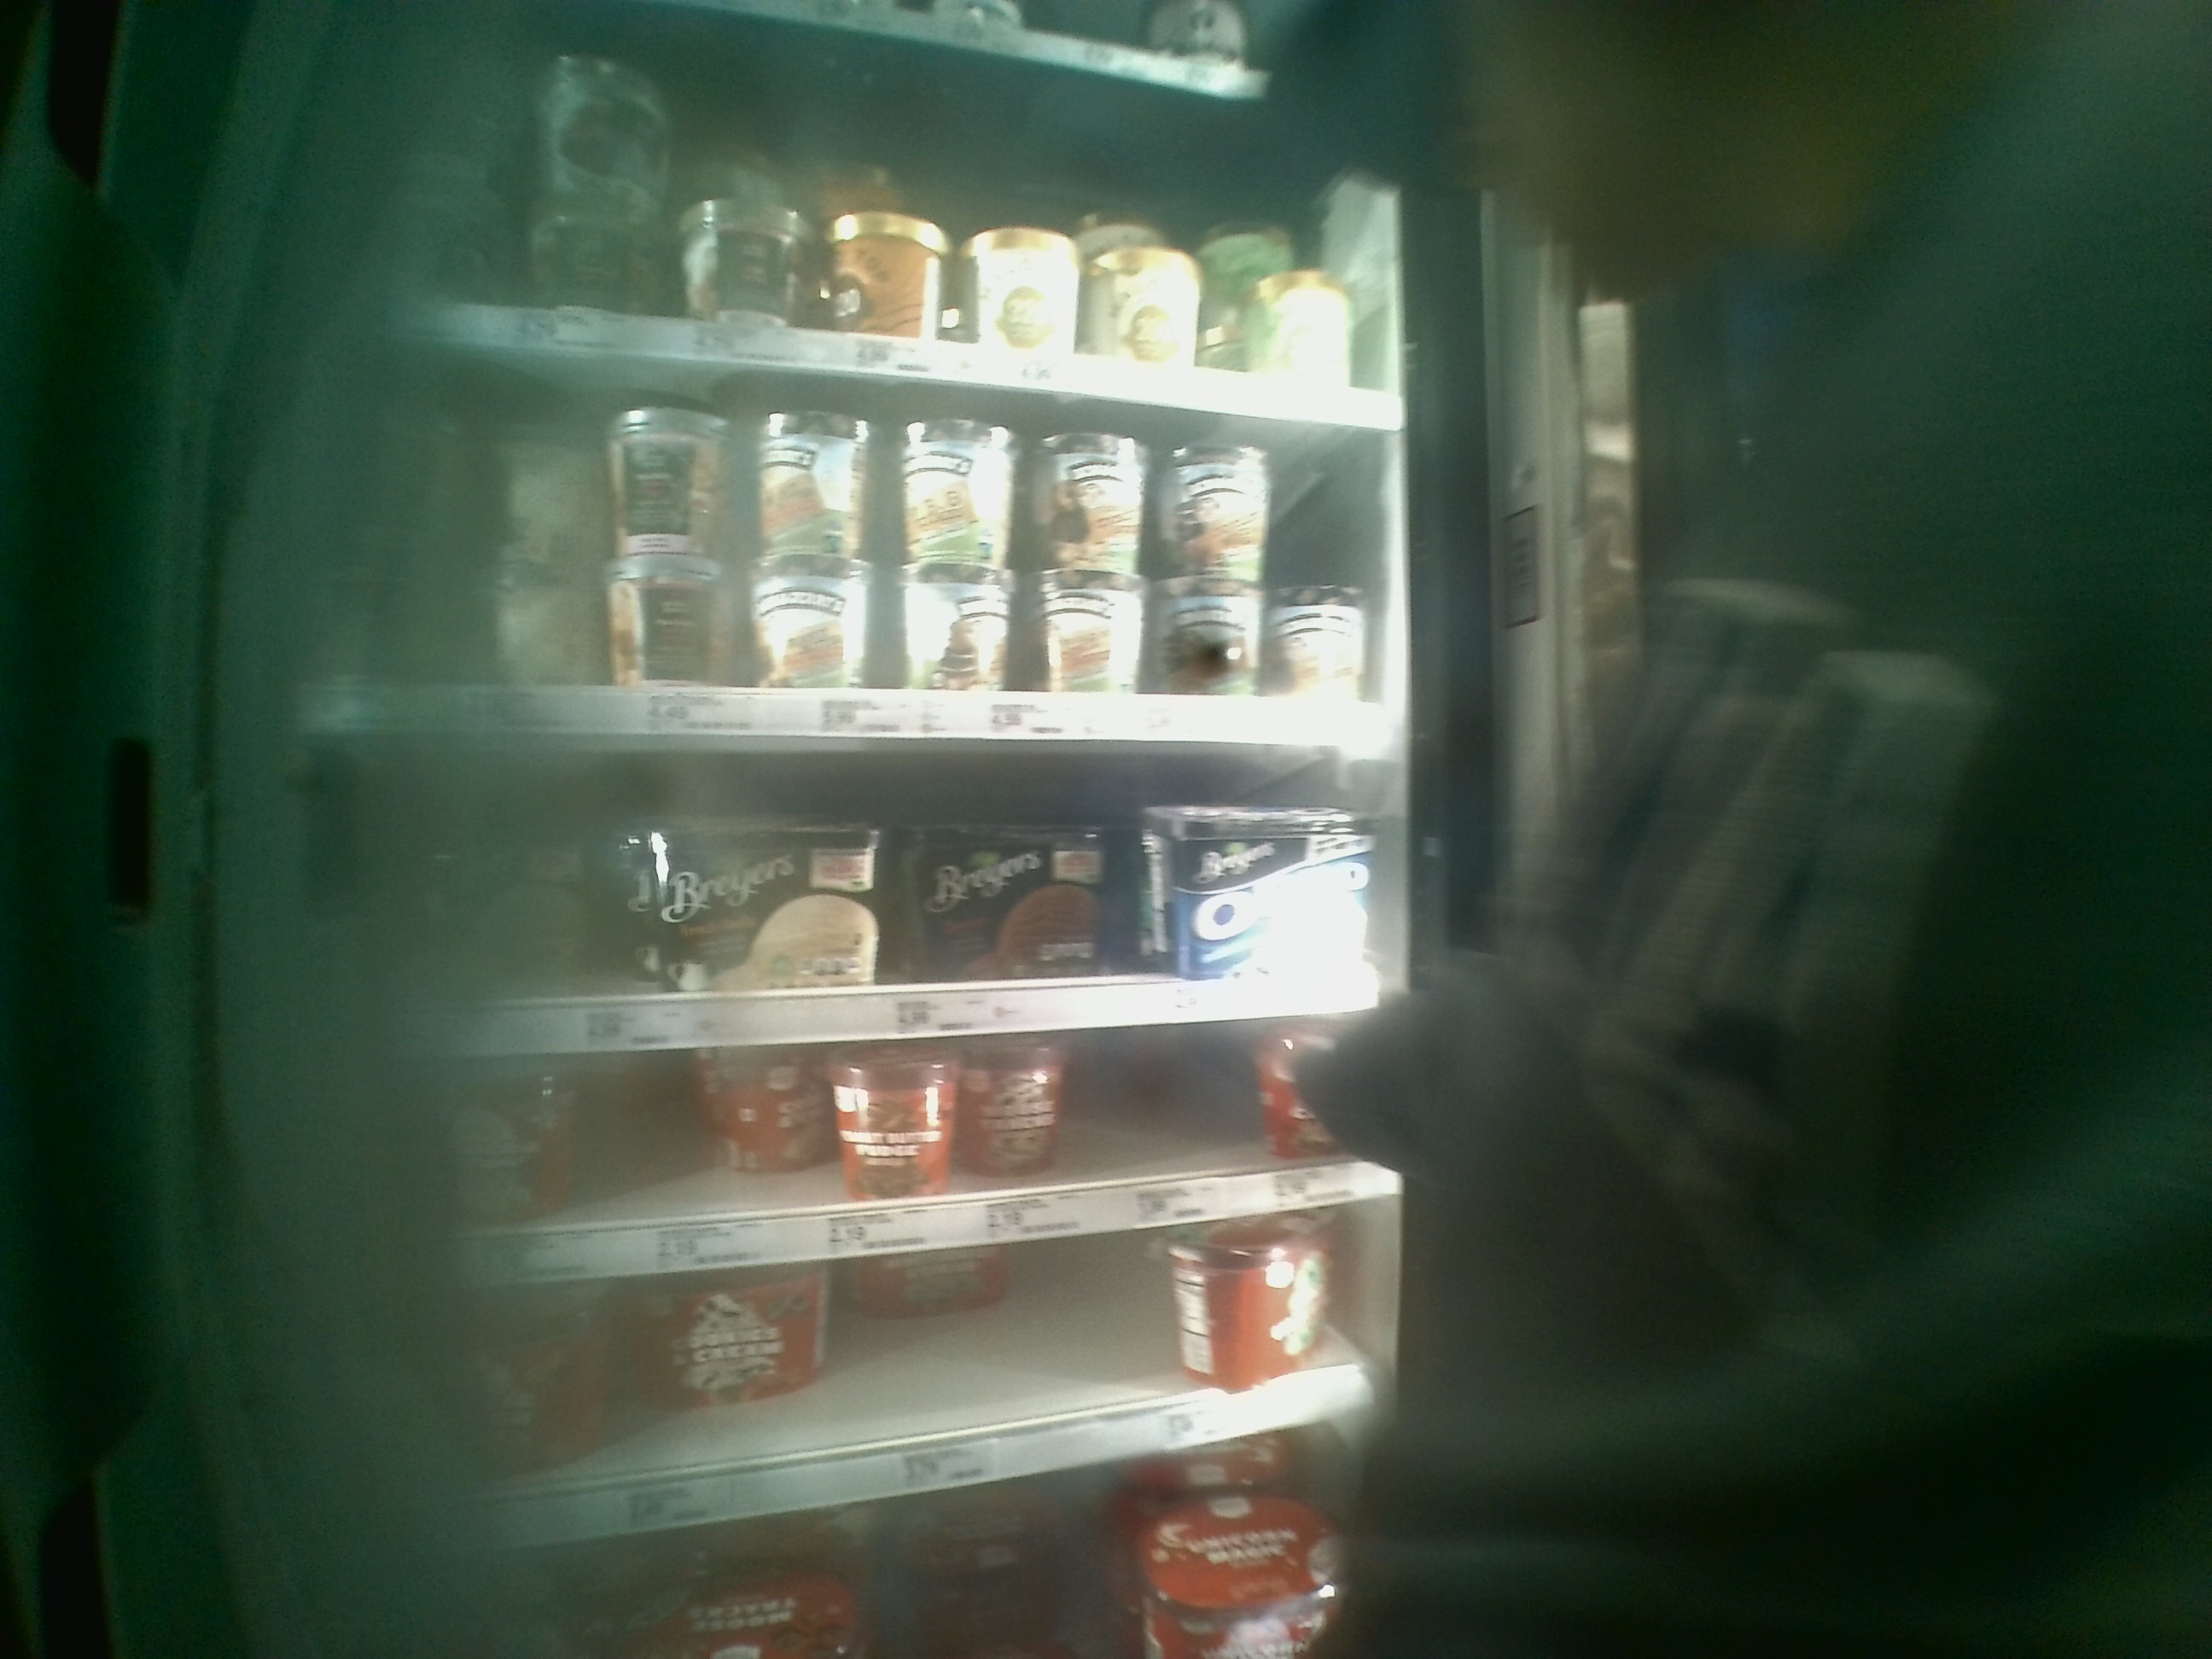shelf: (301, 329, 1404, 732), (301, 732, 1406, 1053)
